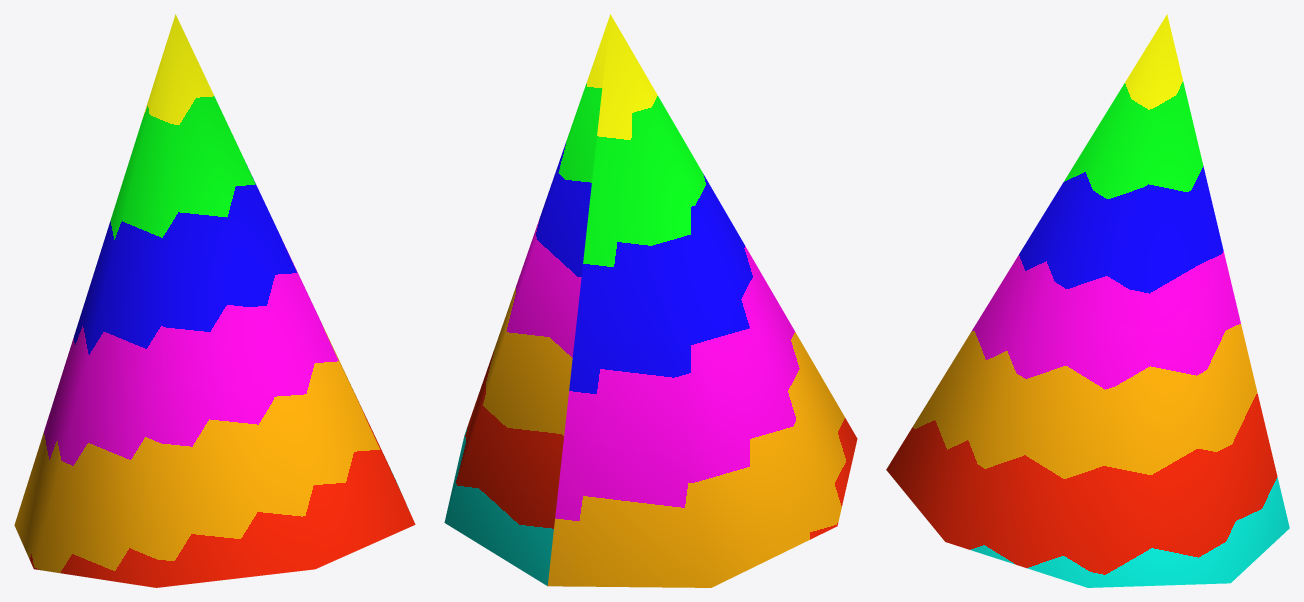
Rendered from h_party.glb.
3 renders of one model, left to right at view 1: azimuth 30°, elevation 25°; view 2: azimuth 150°, elevation 25°; view 3: azimuth 270°, elevation 25°, orthographic. The views are drawn at different scales.
Visible parts, largest first — view 1: acc_party; view 2: acc_party; view 3: acc_party.
Boxes of the visible parts, x1,y1,x2,y2 form: acc_party: (14,14,415,587); acc_party: (444,14,857,587); acc_party: (886,14,1289,587).
Bounding box in the file's own units: 21.98 × 29.63 × 21.08.
Materials: 1 (1 with a texture image).
